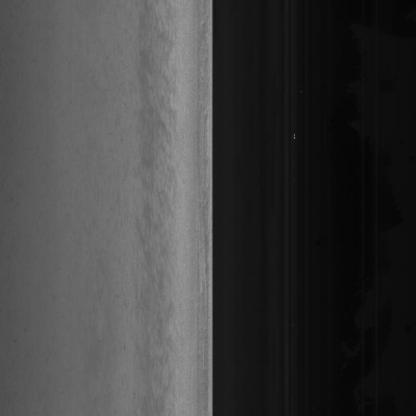silk_spot: (136, 143, 186, 297)
